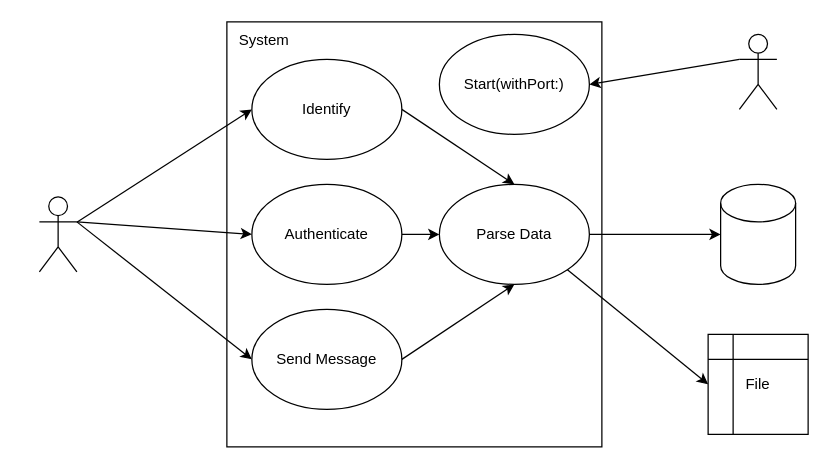
The diagram is 830 pixels wide and 469 high, and some of its shapes have lost their labels. Here are the shapes that lost their labels. From the top down, the centre of each, then its label:
At pixel 757 71: "Server Side".
At pixel 57 234: "Client Side".
At pixel 757 233: "Database".
